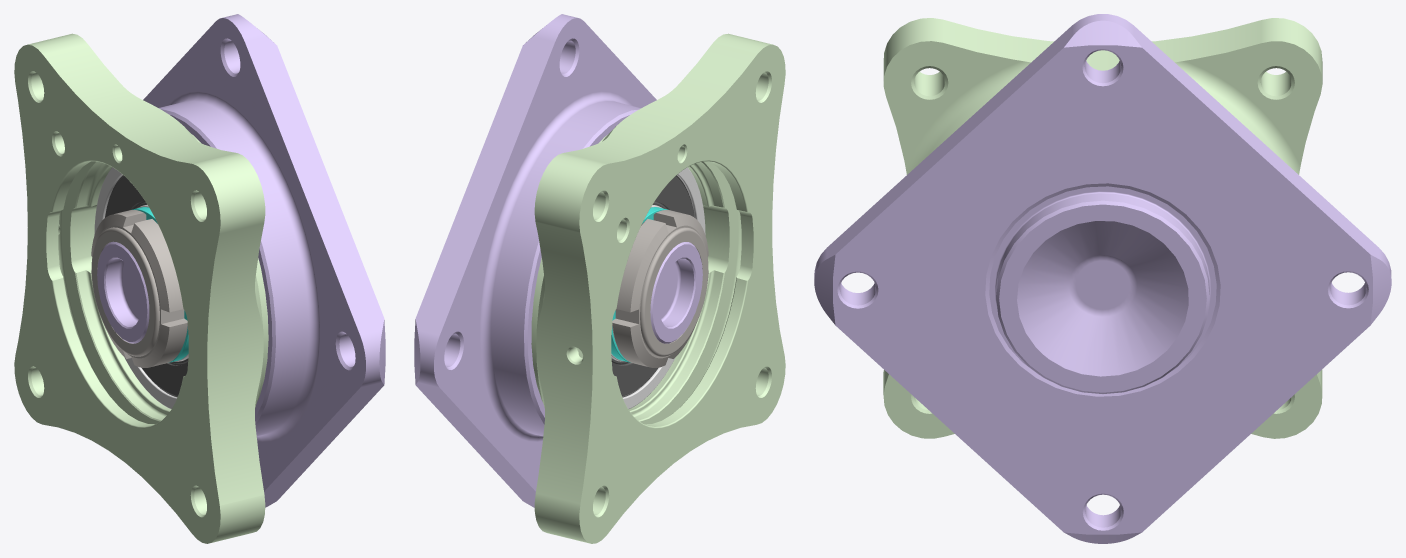
Rendered from BUCR-SG-309-S2.glb.
3 renders of one model, left to right at view 1: azimuth 30°, elevation 25°; view 2: azimuth 150°, elevation 25°; view 3: azimuth 270°, elevation 25°, orthographic. The views are drawn at different scales.
Visible parts, largest first — view 1: color, color-5, carbon steel, color-4, texture-2; view 2: color, color-5, carbon steel, color-4, texture-2; view 3: color-5, color.
Boxes of the visible parts, x1=… form: color: x1=14, y1=33, x2=268, y2=543; color-5: x1=97, y1=14, x2=385, y2=507; carbon steel: x1=91, y1=210, x2=187, y2=367; color-4: x1=105, y1=175, x2=188, y2=397; texture-2: x1=94, y1=167, x2=177, y2=409; color: x1=531, y1=33, x2=785, y2=543; color-5: x1=414, y1=14, x2=702, y2=507; carbon steel: x1=612, y1=210, x2=708, y2=367; color-4: x1=611, y1=175, x2=694, y2=397; texture-2: x1=622, y1=167, x2=705, y2=409; color-5: x1=814, y1=14, x2=1391, y2=543; color: x1=883, y1=18, x2=1322, y2=438.
Size of the model in its own units: 0.067 by 0.1997 by 0.1997.
12 materials, 4 textured.
